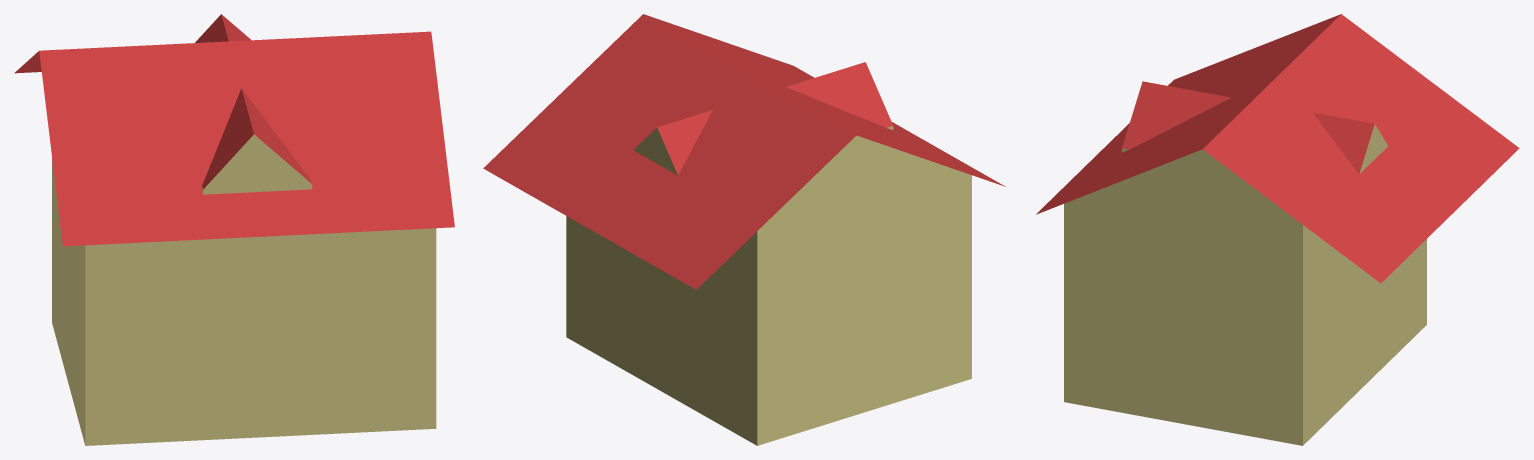
3 renders of one model, left to right at view 1: azimuth 30°, elevation 25°; view 2: azimuth 150°, elevation 25°; view 3: azimuth 270°, elevation 25°, orthographic. The views are drawn at different scales.
Bounding box in the file's own units: 18.08 × 18.64 × 12.08.
